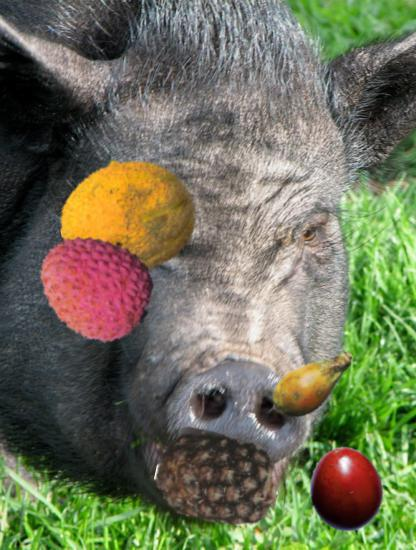Cactus: (268, 337, 362, 431)
Cantaloupe: (59, 147, 198, 286)
Lychee: (35, 227, 155, 347)
Pineapple: (156, 416, 280, 540)
Tamarillo: (301, 446, 392, 537)
